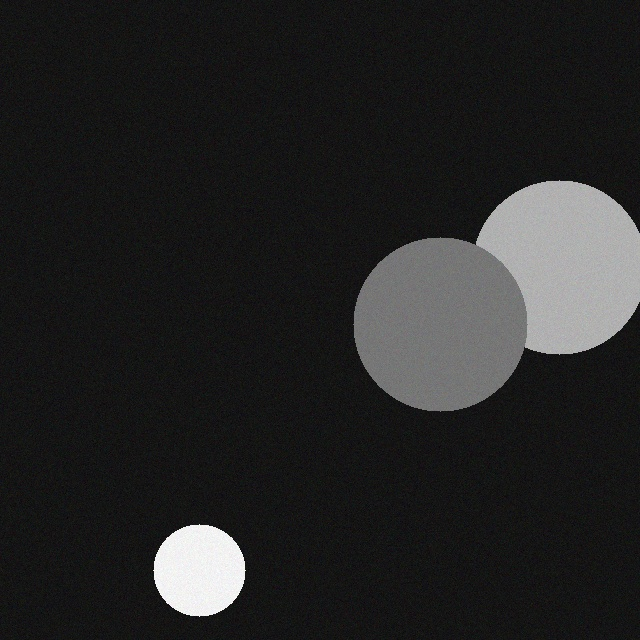circle: (460, 172, 634, 346), (341, 229, 515, 403), (141, 516, 233, 608)
